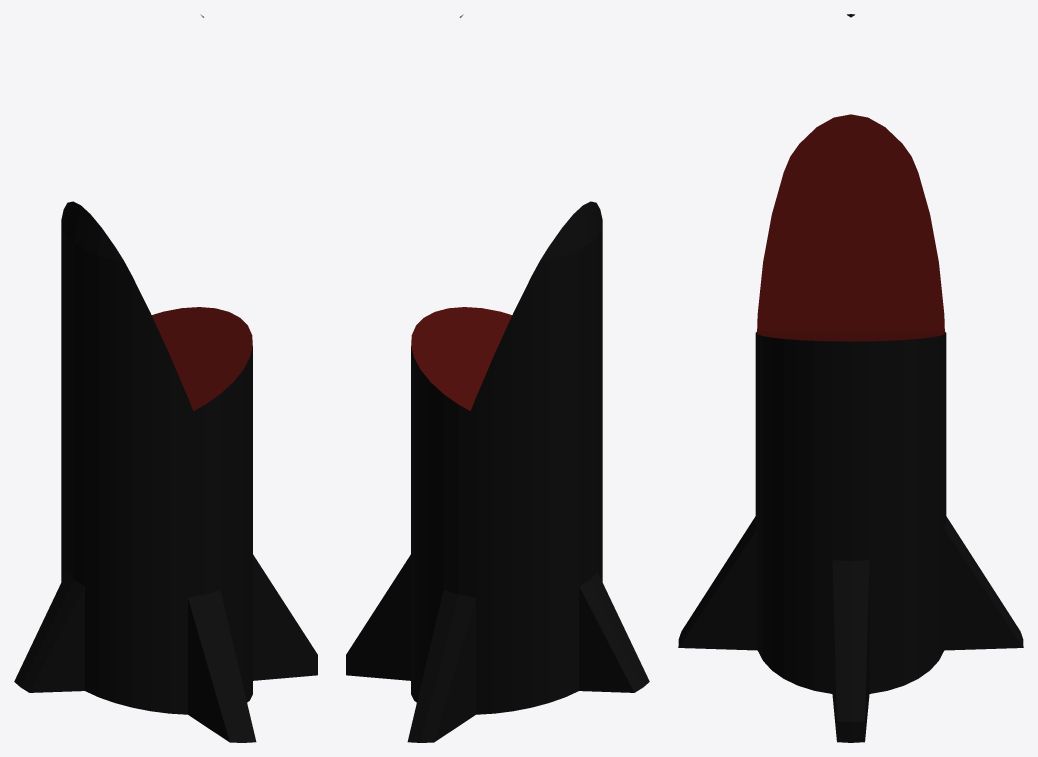
File: missile_wreck_0.fbx
3 views of the same model, side by side, from view 1: azimuth 30°, elevation 25°; view 2: azimuth 150°, elevation 25°; view 3: azimuth 270°, elevation 25° (orthographic).
Visible parts, largest first — view 1: wreck0; view 2: wreck0; view 3: wreck0.
Part boxes in pixels (left/top/right/bottom): wreck0: left=14, top=14, right=317, bottom=742; wreck0: left=346, top=14, right=649, bottom=742; wreck0: left=678, top=14, right=1023, bottom=742.
Bounding box in the file's own units: 105 × 235 × 109.
